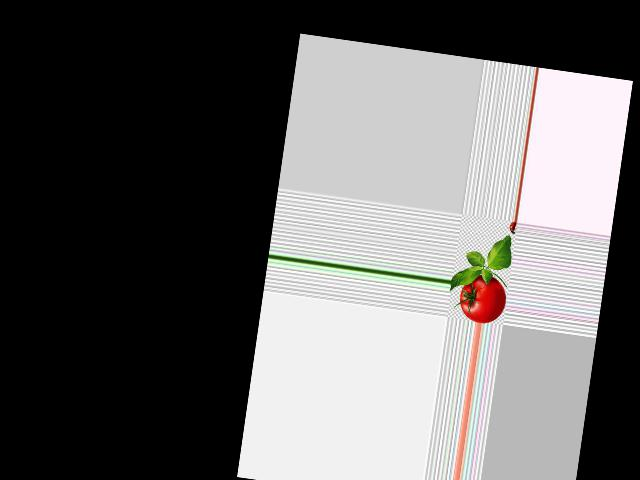tomato: (457, 272, 509, 326)
